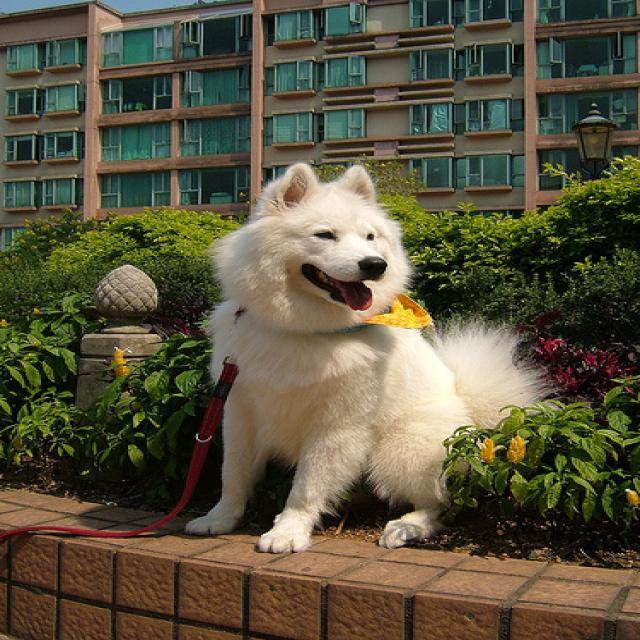dog-samoyed: (177, 157, 522, 563)
